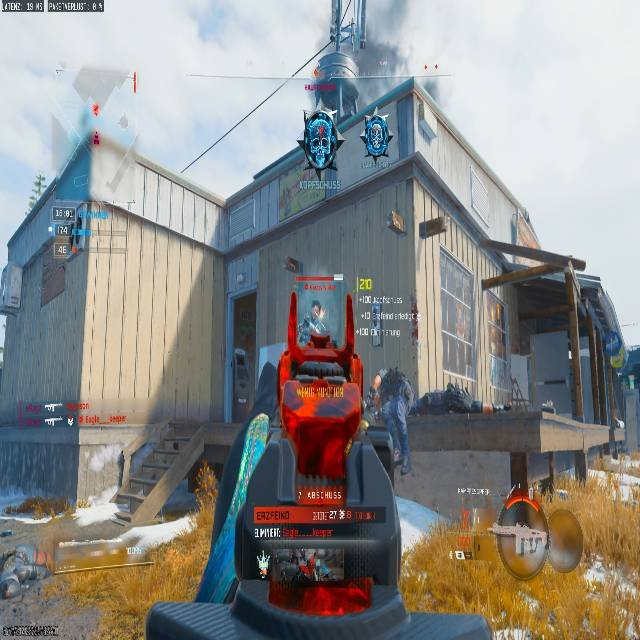head: (311, 301, 321, 316)
player: (368, 366, 415, 478), (0, 546, 34, 600), (306, 300, 330, 347)
